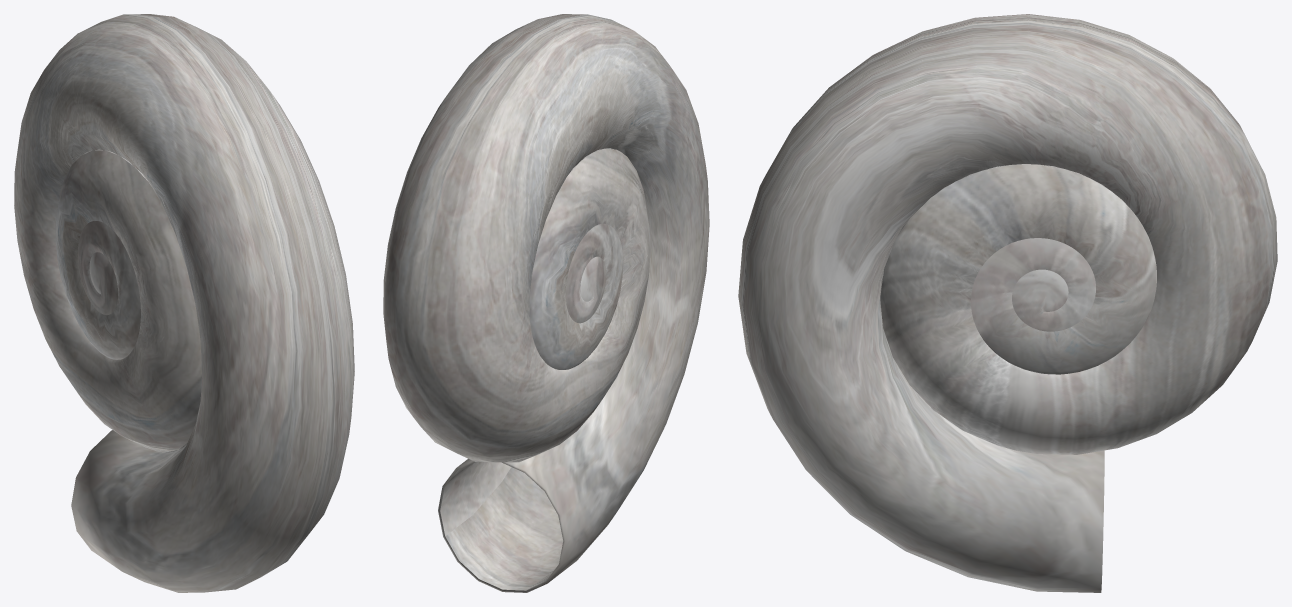
File: Shell.obj
3 views of the same model, side by side, from view 1: azimuth 30°, elevation 25°; view 2: azimuth 150°, elevation 25°; view 3: azimuth 270°, elevation 25° (orthographic). The views are drawn at different scales.
Visible parts, largest first — view 1: Spiral; view 2: Spiral; view 3: Spiral.
Boxes of the visible parts, x1=… form: Spiral: x1=14, y1=14, x2=354, y2=592; Spiral: x1=383, y1=14, x2=709, y2=592; Spiral: x1=738, y1=14, x2=1277, y2=592.
Size of the model in its own units: 6.62 by 26.37 by 22.83.
